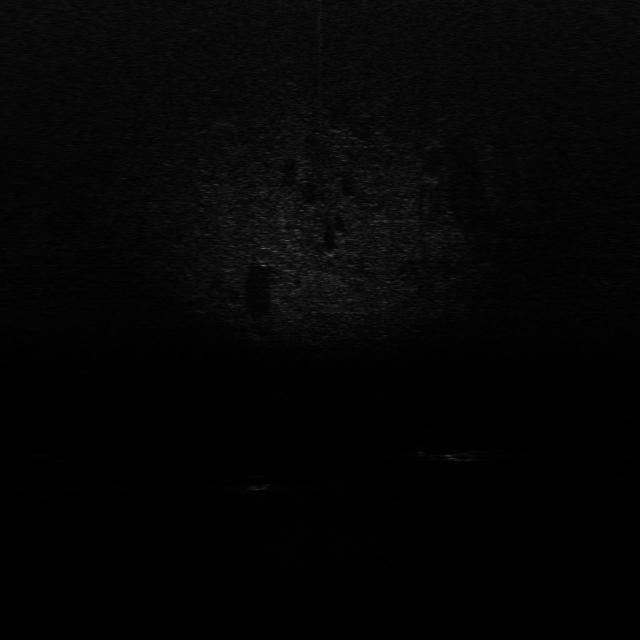ball: (244, 472, 274, 494)
human body: (413, 446, 503, 464)
